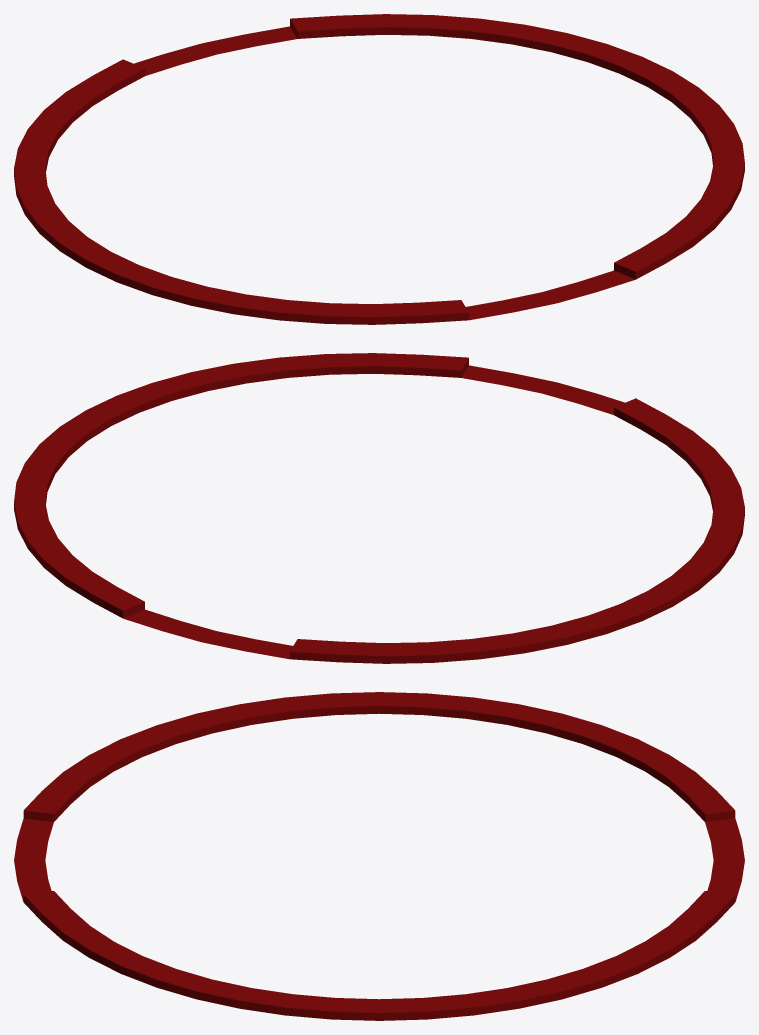
The model's file is Stage-Main-Tent-new2.fbx.
3 renders of one model, top to bottom at view 1: azimuth 30°, elevation 25°; view 2: azimuth 150°, elevation 25°; view 3: azimuth 270°, elevation 25°, orthographic. The views are drawn at different scales.
Parts seen in each view (by area): view 1: pDisc9; view 2: pDisc9; view 3: pDisc9.
Part boxes in pixels (x1,y1,x2,y2): pDisc9: [14, 14, 744, 324]; pDisc9: [14, 353, 744, 663]; pDisc9: [14, 692, 744, 1020].
Size of the model in its own units: 36.84 by 0.4315 by 35.47.
